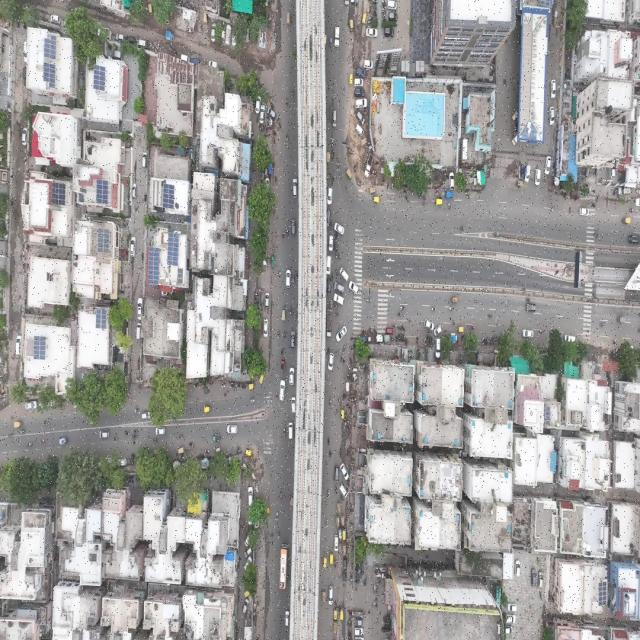3W: (331, 617, 343, 639), (13, 414, 25, 432), (346, 168, 356, 188), (256, 367, 266, 386), (619, 213, 633, 225), (434, 194, 445, 209), (370, 194, 381, 209), (358, 10, 368, 26), (348, 12, 354, 38), (337, 604, 345, 622), (616, 312, 626, 326), (320, 586, 328, 603), (285, 7, 292, 26), (457, 322, 465, 338), (339, 528, 348, 542), (320, 555, 329, 569), (336, 496, 342, 516), (347, 71, 355, 85), (203, 404, 214, 414), (329, 552, 336, 567), (450, 294, 460, 304), (327, 146, 332, 166), (338, 514, 345, 528), (342, 567, 348, 583), (247, 377, 255, 389), (245, 446, 252, 459), (342, 540, 347, 556), (341, 406, 345, 424), (342, 558, 348, 570), (369, 183, 375, 194), (332, 608, 338, 618)
Bus: (279, 536, 288, 594), (325, 306, 335, 342)
Cars: (352, 62, 368, 80), (288, 390, 297, 419), (19, 35, 28, 64), (510, 130, 521, 153), (529, 564, 538, 591), (336, 322, 347, 344), (326, 204, 334, 234), (339, 462, 351, 482), (48, 9, 63, 25), (278, 377, 287, 403), (503, 622, 516, 640), (534, 162, 543, 188), (354, 107, 367, 125), (210, 20, 218, 49), (546, 106, 556, 129), (350, 86, 369, 98), (19, 123, 28, 148), (23, 399, 40, 412), (330, 108, 340, 130), (349, 282, 361, 300), (326, 181, 334, 208), (267, 104, 279, 122), (269, 250, 278, 274), (135, 293, 142, 323), (333, 293, 346, 309), (515, 556, 523, 582), (538, 565, 546, 591), (564, 330, 577, 346), (361, 54, 374, 70), (254, 92, 262, 118), (283, 267, 292, 290), (333, 221, 345, 238), (578, 203, 590, 220), (351, 96, 368, 108), (262, 318, 272, 338), (288, 365, 296, 390), (246, 487, 254, 512), (326, 352, 336, 372), (292, 176, 300, 201), (386, 9, 400, 23), (136, 34, 150, 48), (382, 26, 397, 39), (520, 326, 536, 338), (549, 78, 557, 102), (353, 74, 365, 90), (363, 26, 379, 38), (354, 120, 365, 137), (333, 24, 341, 47), (129, 234, 136, 260), (525, 301, 538, 315), (224, 424, 239, 436), (340, 481, 350, 499), (242, 595, 249, 620), (242, 530, 252, 547), (338, 265, 348, 282), (432, 322, 442, 339), (616, 186, 633, 196), (153, 424, 166, 437), (382, 322, 395, 335), (136, 320, 144, 341), (333, 280, 345, 294), (327, 582, 334, 606), (290, 212, 296, 240), (504, 613, 518, 625), (226, 18, 232, 46), (178, 52, 192, 64), (435, 335, 442, 358), (424, 316, 434, 332), (126, 30, 136, 46), (327, 276, 333, 302), (208, 58, 221, 70), (110, 46, 122, 59), (332, 531, 339, 553), (449, 168, 456, 190), (15, 332, 21, 356), (334, 461, 340, 485), (505, 602, 517, 614), (99, 428, 110, 441), (353, 625, 364, 638), (328, 230, 335, 250), (58, 435, 68, 449), (545, 155, 551, 177), (190, 54, 202, 65), (115, 30, 126, 42), (142, 147, 148, 169), (131, 180, 137, 202), (117, 455, 127, 468), (22, 61, 27, 87), (244, 556, 253, 570), (260, 104, 266, 125), (354, 617, 365, 628), (290, 326, 295, 350), (326, 254, 332, 274), (265, 288, 270, 310), (526, 164, 531, 186), (142, 409, 150, 422), (386, 0, 399, 8), (288, 418, 292, 441), (244, 547, 253, 557)
LCV: (362, 153, 374, 179), (211, 433, 225, 445), (249, 395, 256, 405)
M2W: (594, 316, 606, 334), (486, 303, 496, 323), (112, 432, 122, 451), (177, 427, 187, 445), (279, 486, 288, 505), (132, 399, 141, 417), (284, 129, 293, 145), (457, 218, 466, 234), (327, 391, 333, 414), (326, 445, 334, 462), (39, 415, 51, 426), (326, 427, 332, 449), (6, 430, 14, 446), (288, 84, 295, 102), (26, 437, 34, 451), (283, 224, 290, 240), (130, 424, 141, 434), (276, 266, 282, 284), (283, 91, 289, 109), (36, 436, 46, 446), (327, 487, 332, 506), (283, 325, 287, 348), (153, 433, 160, 446), (188, 438, 195, 451), (396, 308, 403, 321), (8, 413, 18, 422), (123, 423, 129, 438), (130, 440, 140, 449), (276, 510, 282, 525), (279, 341, 285, 356), (432, 301, 437, 319), (399, 302, 408, 312), (288, 299, 292, 321), (324, 516, 330, 530), (338, 350, 343, 366), (293, 309, 297, 327), (277, 322, 280, 344)
